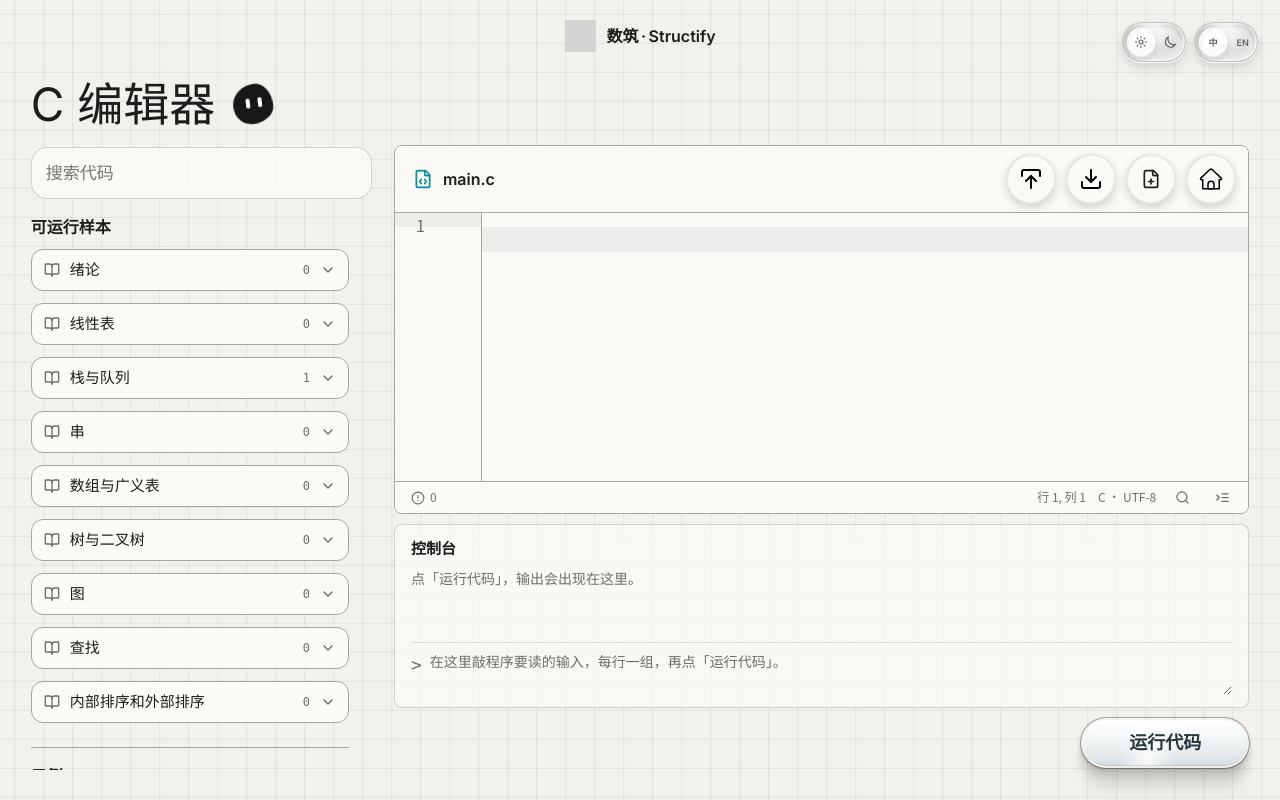
Test: code library page › starts a new blank document without selecting a library entry
Click the button "栈与队列 1".
click(100, 378)  # box [31, 357, 349, 399]
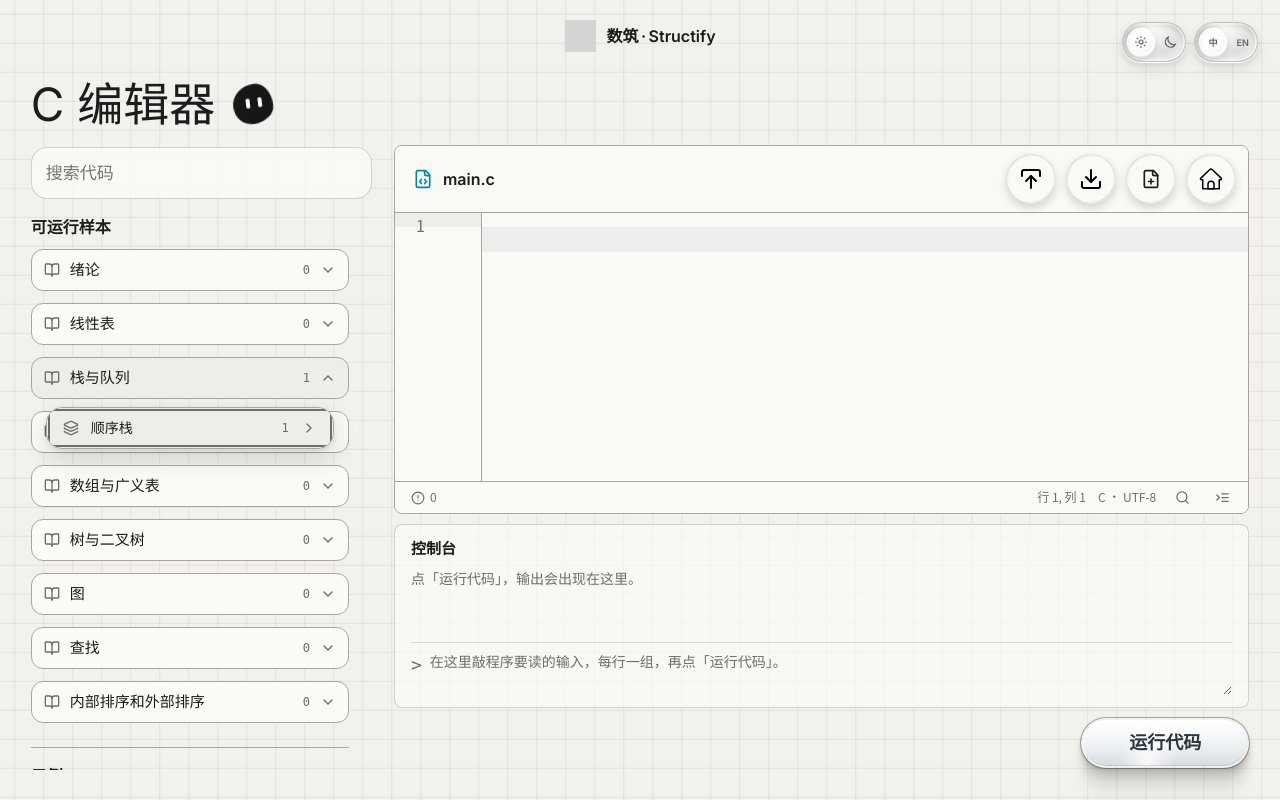
Click the menu item with class "code-menu__item".
click(112, 428)  # box [47, 408, 333, 448]
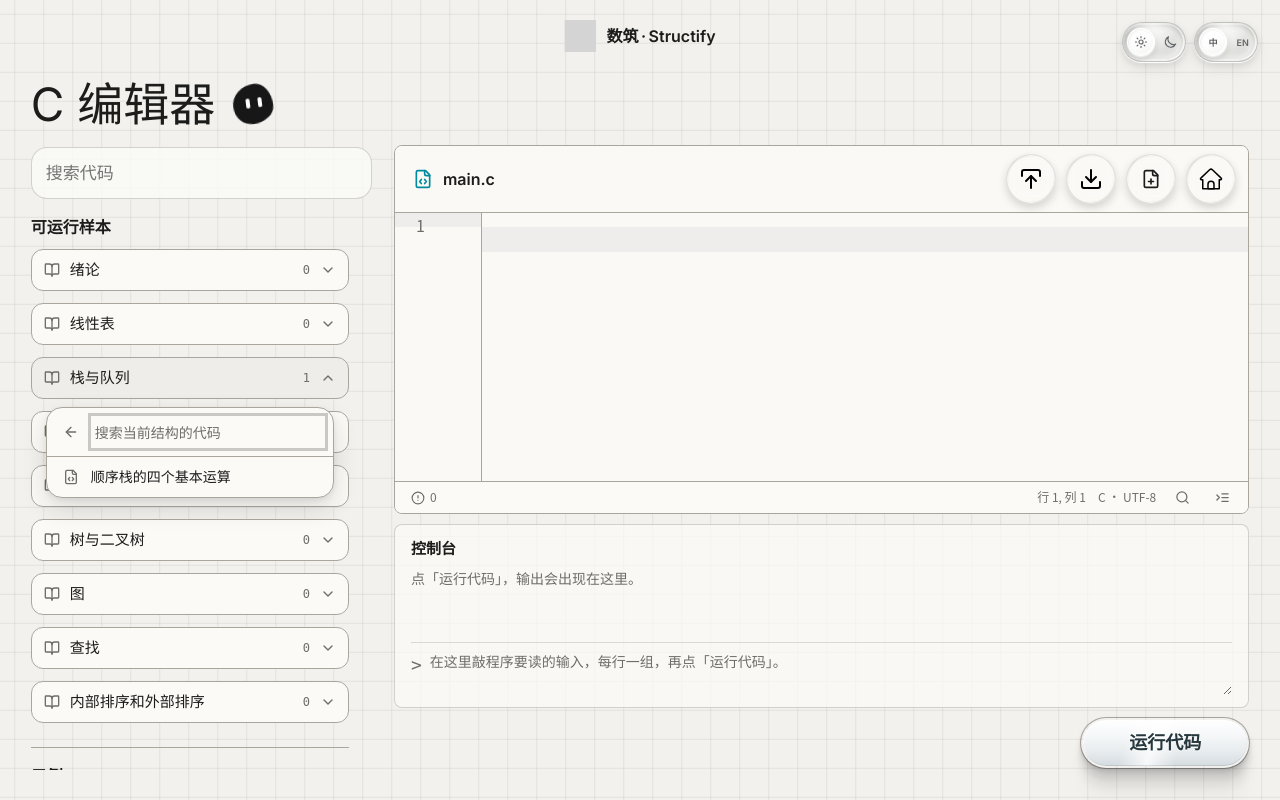
Click the menu item "顺序栈的四个基本运算".
click(190, 477)  # box [47, 457, 333, 497]
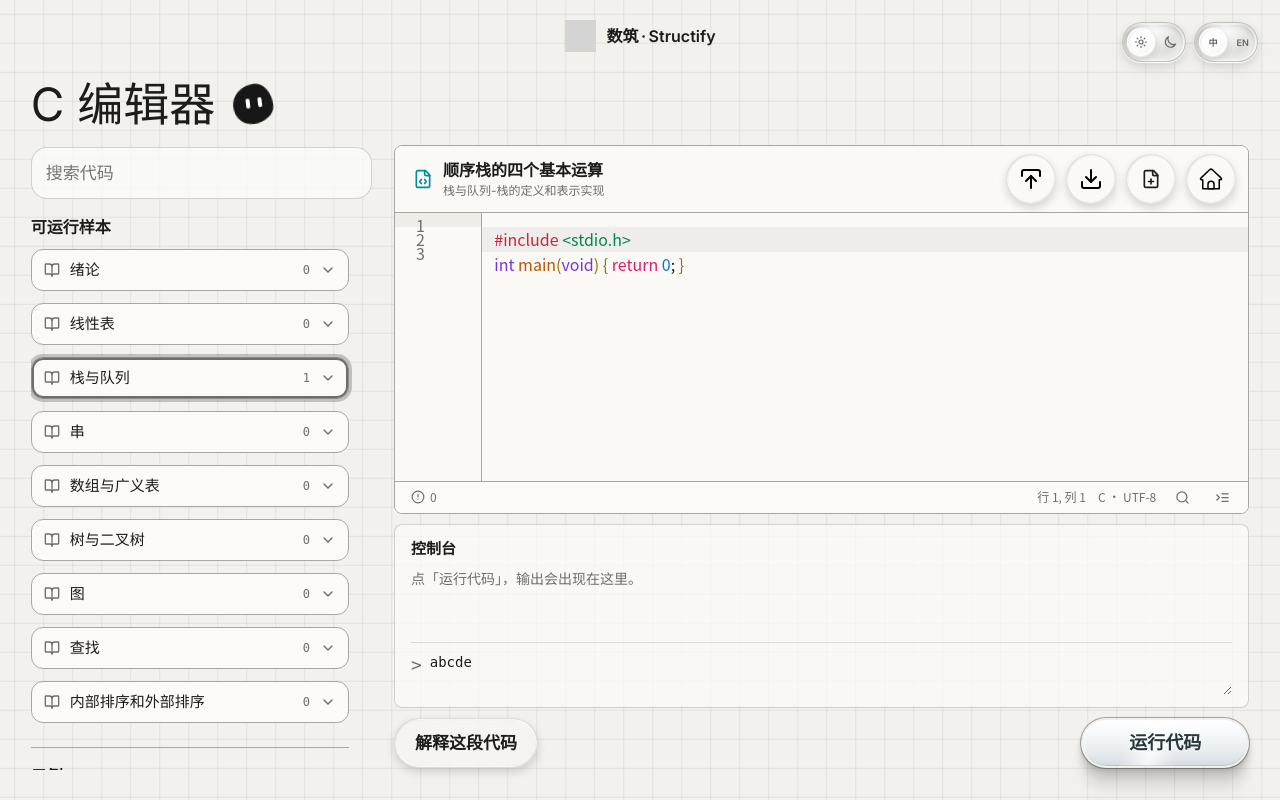
Click the button named "新建空白文件".
click(1151, 179)  # box [1126, 154, 1176, 204]
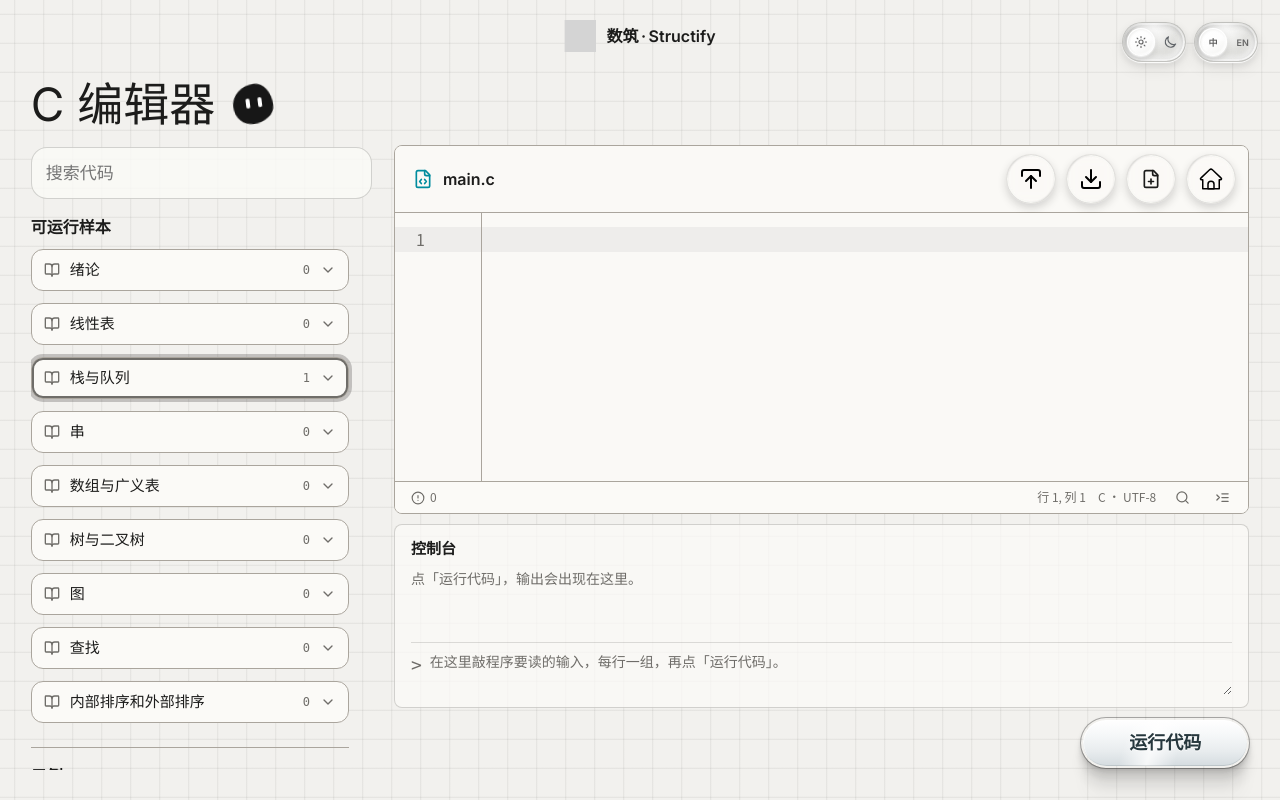
Check: the text with class "library__document-title" reads "main.c", box [443, 169, 495, 189]
